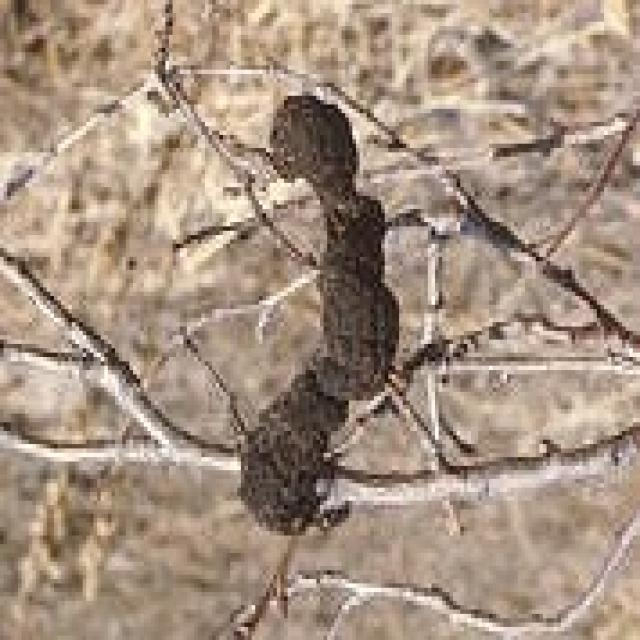Black_knot: (226, 87, 428, 536)
